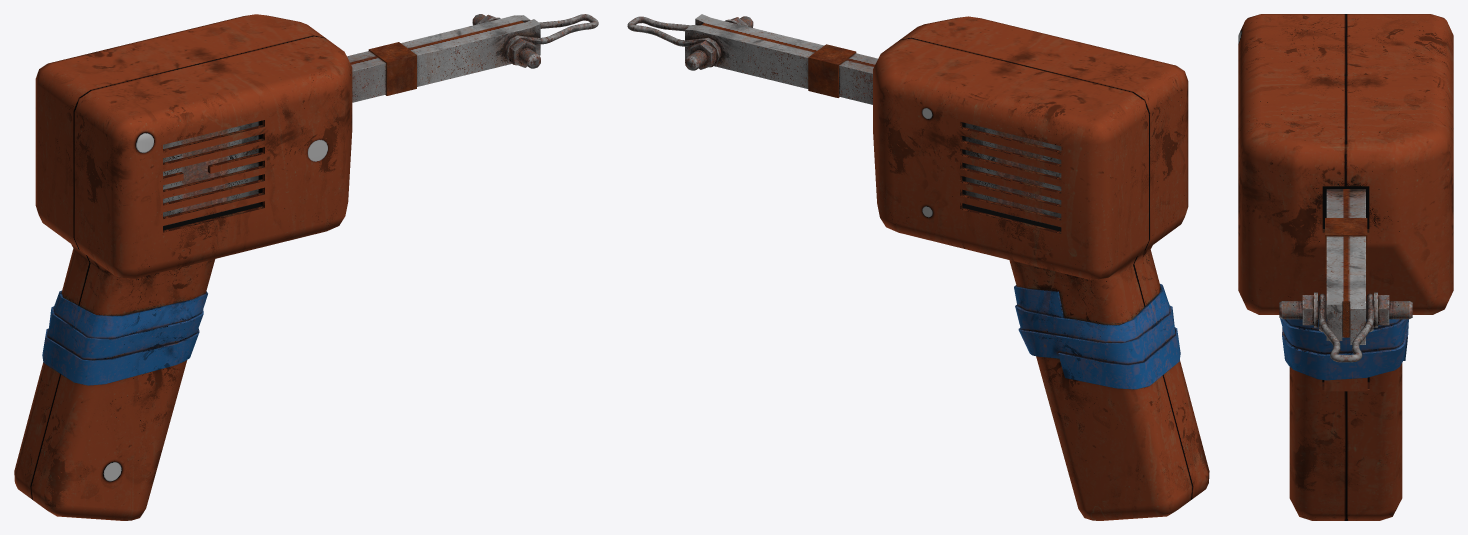
3 views of the same model, side by side, from view 1: azimuth 30°, elevation 25°; view 2: azimuth 150°, elevation 25°; view 3: azimuth 270°, elevation 25° (orthographic). The views are drawn at different scales.
Visible parts, largest first — view 1: body_low, stick, jalo_cage, bodyInside_low, Cube.004, circle_low; view 2: body_low, stick, jalo_cage, bodyInside_low, Cube.004, circle_low; view 3: body_low, stick, jalo_cage, circle_low, Cube.004, thread_low, screw_low, button_low, washer_low.
Part boxes in pixels (left/top/right/bottom): body_low: left=14, top=14, right=352, bottom=520; stick: left=42, top=290, right=207, bottom=385; jalo_cage: left=347, top=15, right=540, bottom=102; bodyInside_low: left=163, top=120, right=262, bottom=230; Cube.004: left=368, top=42, right=416, bottom=95; circle_low: left=504, top=14, right=598, bottom=57; body_low: left=873, top=16, right=1209, bottom=520; stick: left=1014, top=284, right=1180, bottom=389; jalo_cage: left=685, top=14, right=877, bottom=104; bodyInside_low: left=962, top=122, right=1061, bottom=231; Cube.004: left=808, top=44, right=856, bottom=97; circle_low: left=627, top=16, right=721, bottom=59; body_low: left=1238, top=14, right=1453, bottom=520; stick: left=1280, top=318, right=1408, bottom=380; jalo_cage: left=1326, top=189, right=1365, bottom=344; circle_low: left=1318, top=293, right=1373, bottom=362; Cube.004: left=1325, top=218, right=1367, bottom=273; thread_low: left=1279, top=301, right=1412, bottom=319; screw_low: left=1302, top=295, right=1389, bottom=325; button_low: left=1324, top=377, right=1367, bottom=391; washer_low: left=1314, top=292, right=1377, bottom=327.
Size of the model in its own units: 505 by 362 by 144.
